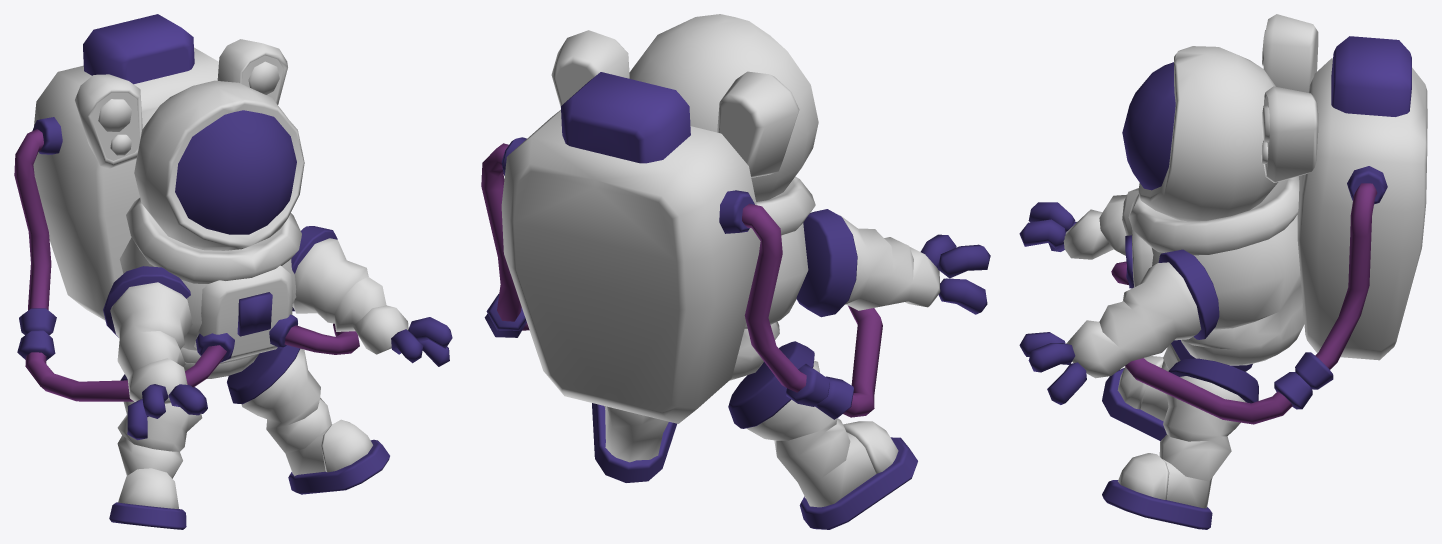
Rendered from Astronaut.fbx.
3 renders of one model, left to right at view 1: azimuth 30°, elevation 25°; view 2: azimuth 150°, elevation 25°; view 3: azimuth 270°, elevation 25°, orthographic. The views are drawn at different scales.
Parts seen in each view (by area): view 1: Astronaut; view 2: Astronaut; view 3: Astronaut.
Boxes of the visible parts, x1,y1,x2,y2 form: Astronaut: (14,14,452,529); Astronaut: (481,14,990,529); Astronaut: (1019,14,1427,529).
Size of the model in its own units: 0.9977 by 1.24 by 1.06.
